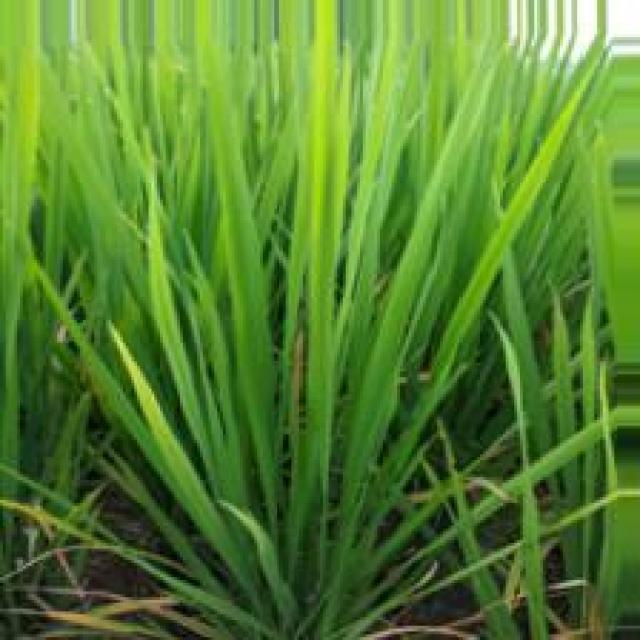HealthyLeaf: (231, 248, 270, 413), (379, 271, 417, 355)
